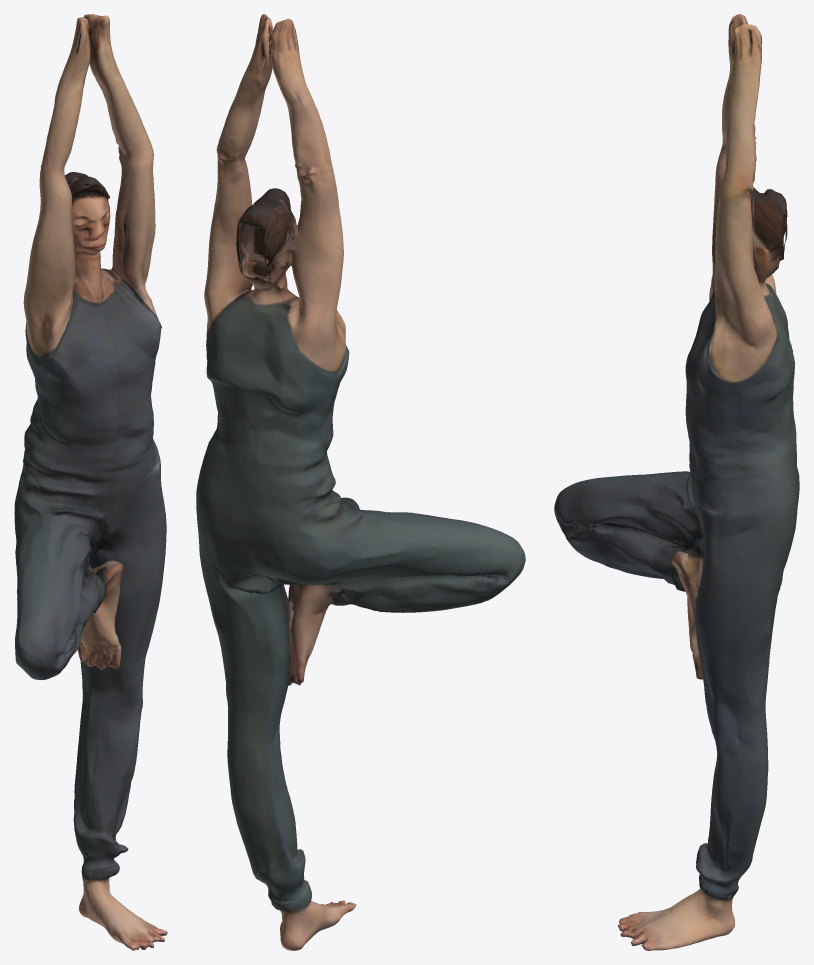
The model's file is tree-pose.glb.
3 views of the same model, side by side, from view 1: azimuth 30°, elevation 25°; view 2: azimuth 150°, elevation 25°; view 3: azimuth 270°, elevation 25° (orthographic). The views are drawn at different scales.
Bounding box in the file's own units: 0.5177 × 2 × 0.4854.
Materials: 1 (1 with a texture image).
